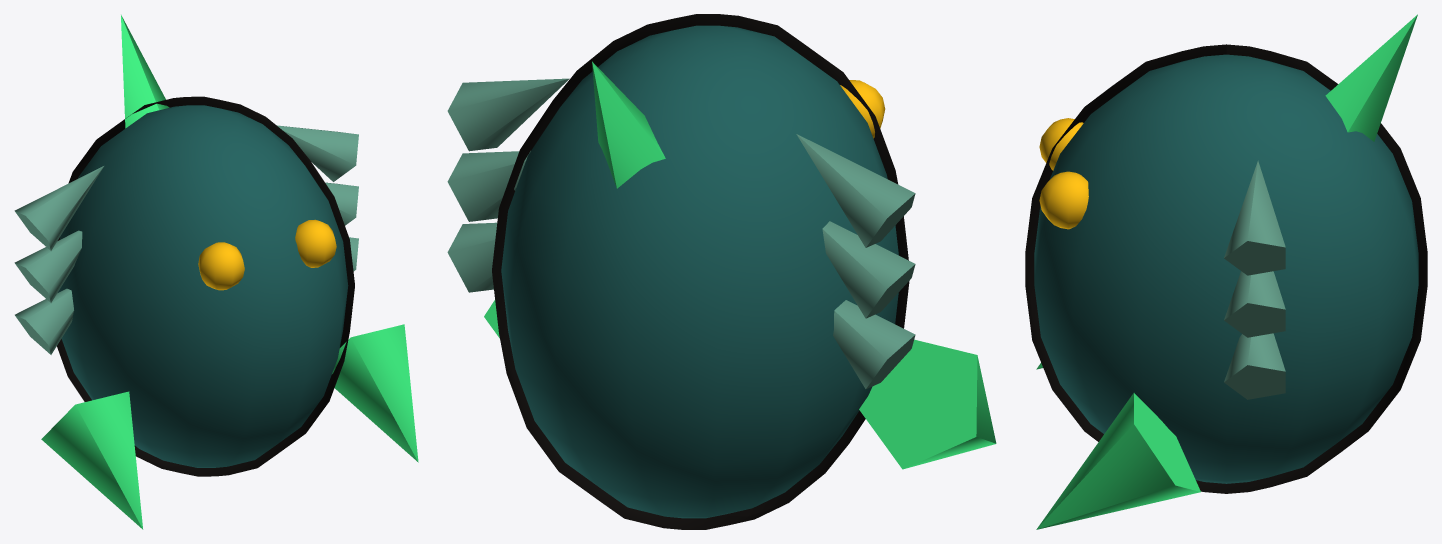
File: thuyquai.glb
The picture shows the model from 3 angles, left to right: view 1: azimuth 30°, elevation 25°; view 2: azimuth 150°, elevation 25°; view 3: azimuth 270°, elevation 25°; orthographic projection. The views are drawn at different scales.
Parts seen in each view (by area): view 1: TQ_Body, TQ_Claw_-1, TQ_Claw_1, TQ_Body_outline, TQ_Gill_-1_2, TQ_Fin, TQ_Gill_1_2, TQ_Gill_-1_1, TQ_Gill_-1_0, TQ_Eye_0, TQ_Eye_1, TQ_Gill_1_1; view 2: TQ_Body, TQ_Body_outline, TQ_Claw_-1, TQ_Gill_-1_2, TQ_Gill_1_2, TQ_Gill_-1_1, TQ_Fin, TQ_Gill_-1_0, TQ_Gill_1_1, TQ_Gill_1_0, TQ_Eye_0; view 3: TQ_Body, TQ_Body_outline, TQ_Claw_1, TQ_Fin, TQ_Gill_1_2, TQ_Gill_1_1, TQ_Gill_1_0, TQ_Eye_1, TQ_Eye_0.
Part boxes in pixels (x1=…): TQ_Body: x1=58, y1=105, x2=348, y2=467; TQ_Claw_-1: x1=41, y1=391, x2=143, y2=529; TQ_Claw_1: x1=332, y1=324, x2=418, y2=462; TQ_Body_outline: x1=57, y1=96, x2=354, y2=476; TQ_Gill_-1_2: x1=14, y1=166, x2=103, y2=250; TQ_Fin: x1=121, y1=15, x2=169, y2=128; TQ_Gill_1_2: x1=277, y1=125, x2=358, y2=181; TQ_Gill_-1_1: x1=14, y1=230, x2=82, y2=302; TQ_Gill_-1_0: x1=15, y1=288, x2=73, y2=354; TQ_Eye_0: x1=198, y1=242, x2=244, y2=290; TQ_Eye_1: x1=295, y1=219, x2=336, y2=267; TQ_Gill_1_1: x1=325, y1=182, x2=358, y2=225; TQ_Body: x1=501, y1=25, x2=898, y2=518; TQ_Body_outline: x1=492, y1=14, x2=909, y2=529; TQ_Claw_-1: x1=859, y1=339, x2=996, y2=469; TQ_Gill_-1_2: x1=796, y1=134, x2=915, y2=247; TQ_Gill_1_2: x1=447, y1=78, x2=569, y2=151; TQ_Gill_-1_1: x1=822, y1=221, x2=915, y2=318; TQ_Fin: x1=592, y1=61, x2=665, y2=188; TQ_Gill_-1_0: x1=833, y1=300, x2=915, y2=388; TQ_Gill_1_1: x1=447, y1=151, x2=530, y2=221; TQ_Gill_1_0: x1=447, y1=222, x2=497, y2=292; TQ_Eye_0: x1=840, y1=80, x2=885, y2=138; TQ_Body: x1=1034, y1=54, x2=1418, y2=483; TQ_Body_outline: x1=1025, y1=44, x2=1427, y2=493; TQ_Claw_1: x1=1036, y1=393, x2=1200, y2=529; TQ_Fin: x1=1325, y1=14, x2=1417, y2=141; TQ_Gill_1_2: x1=1224, y1=160, x2=1285, y2=275; TQ_Gill_1_1: x1=1224, y1=271, x2=1285, y2=337; TQ_Gill_1_0: x1=1224, y1=333, x2=1285, y2=399; TQ_Eye_1: x1=1039, y1=171, x2=1088, y2=229; TQ_Eye_0: x1=1039, y1=118, x2=1083, y2=170.
Bounding box in the file's own units: 0.9483 × 0.9794 × 0.7636.
